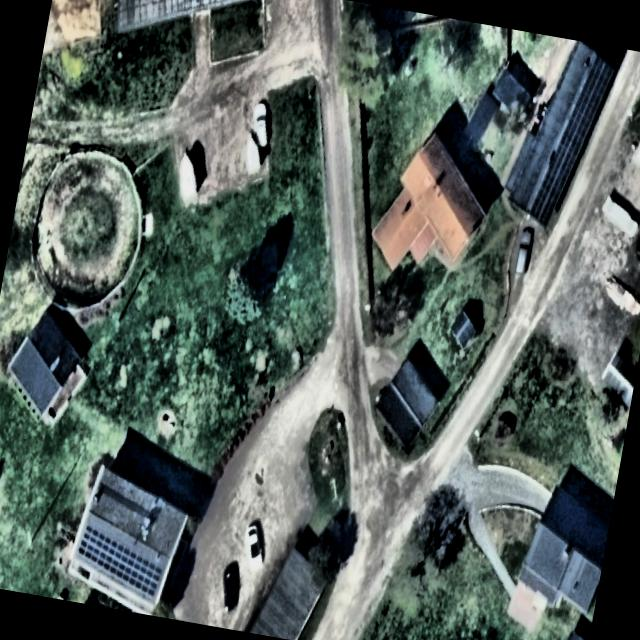roof_pv: (68, 522, 168, 600), (530, 144, 572, 228), (574, 53, 615, 118), (556, 104, 594, 168)
